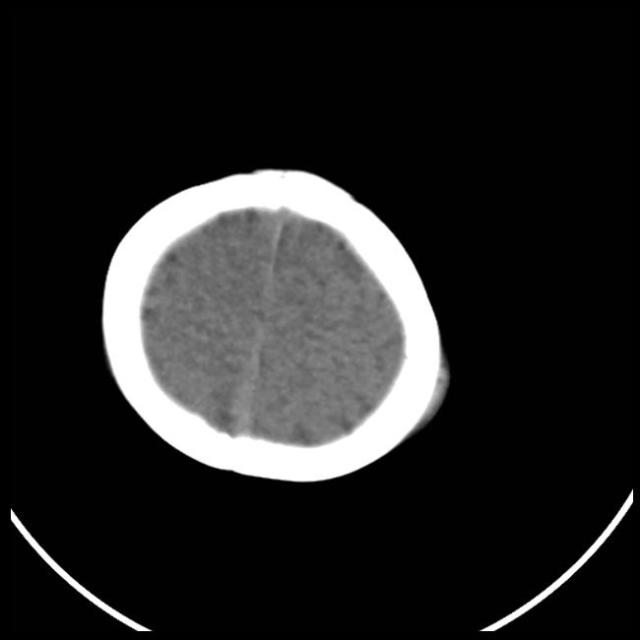lesion: (95, 160, 456, 488)
